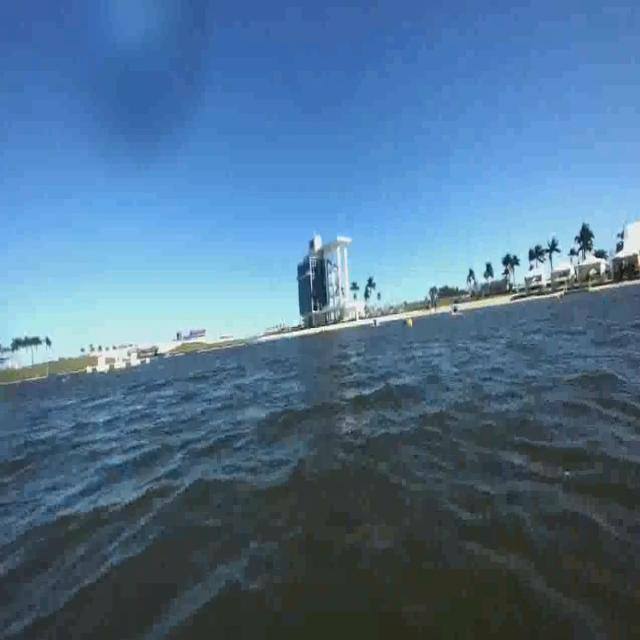yellow-buoy: (408, 317, 414, 329)
